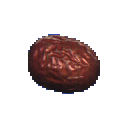gd: (14, 20, 111, 107)
